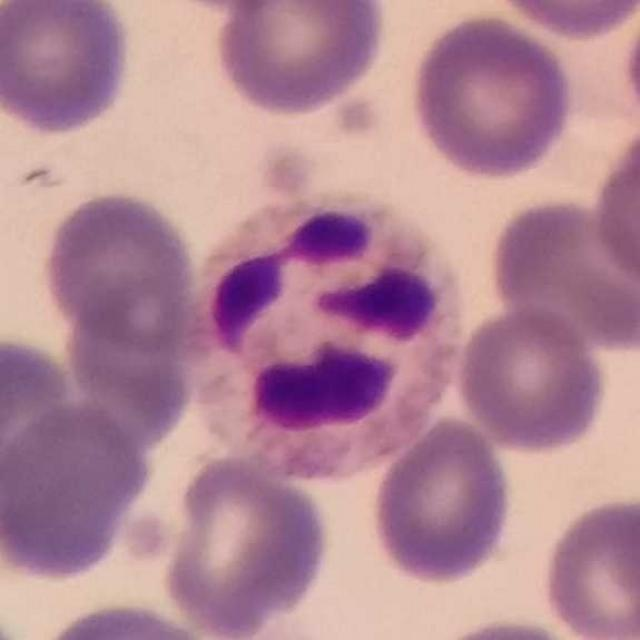Neutrophil: (184, 180, 470, 475)
Platelets: (259, 136, 327, 200), (326, 86, 385, 143)
RBC: (157, 450, 335, 639), (405, 10, 578, 183), (0, 398, 155, 580), (38, 186, 202, 352), (366, 413, 519, 588), (484, 193, 640, 356), (451, 301, 611, 455), (210, 0, 392, 119), (0, 0, 137, 138), (536, 491, 640, 640), (0, 330, 81, 508), (587, 114, 640, 300), (32, 596, 220, 640), (484, 0, 640, 41), (420, 613, 593, 640), (147, 0, 308, 16), (620, 4, 640, 120)
